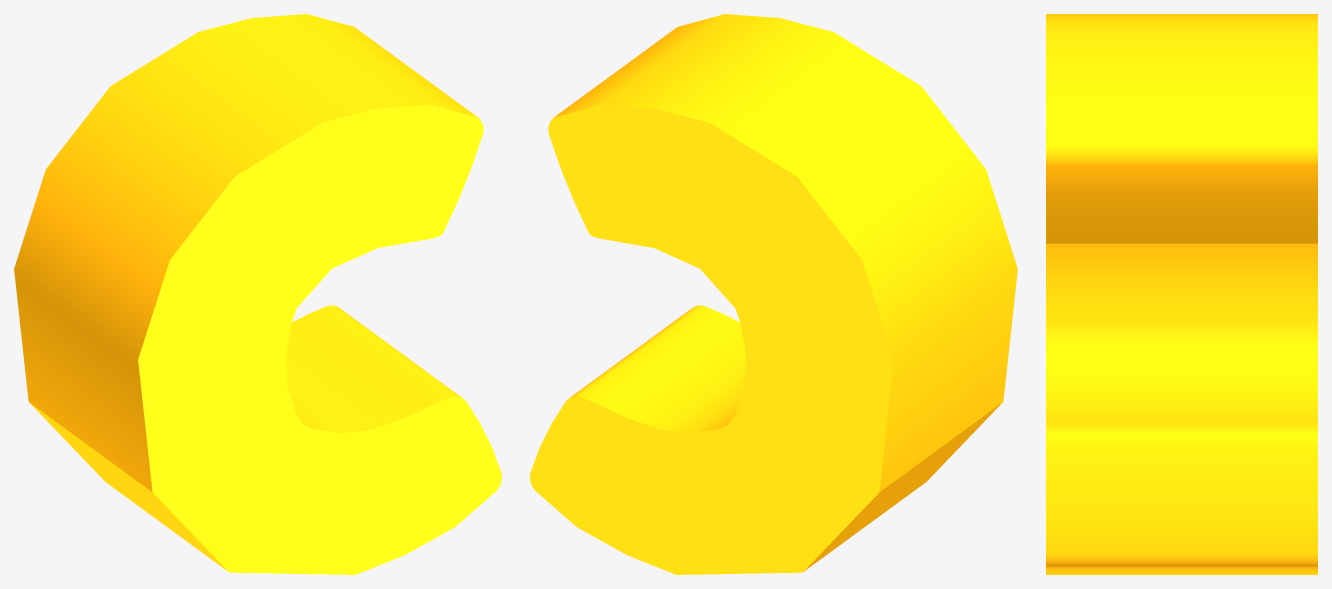
The model's file is b352edcf-72f6-4f45-854d-bafa37e3ecc0.glb.
3 renders of one model, left to right at view 1: azimuth 30°, elevation 25°; view 2: azimuth 150°, elevation 25°; view 3: azimuth 270°, elevation 25°, orthographic. The views are drawn at different scales.
Visible parts, largest first — view 1: c_Zyzol_Yellow; view 2: c_Zyzol_Yellow; view 3: c_Zyzol_Yellow.
Boxes of the visible parts, bbox=[...] form: c_Zyzol_Yellow: bbox=[14, 14, 501, 574]; c_Zyzol_Yellow: bbox=[530, 14, 1017, 574]; c_Zyzol_Yellow: bbox=[1046, 14, 1317, 574].
Size of what is drawn, in the model's own units: 0.0762 by 0.0923 by 0.045.
Materials: 2 (2 with a texture image).
